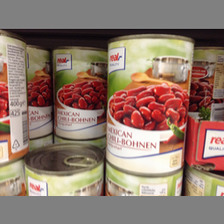beans: (105, 33, 193, 175), (51, 44, 106, 140)
